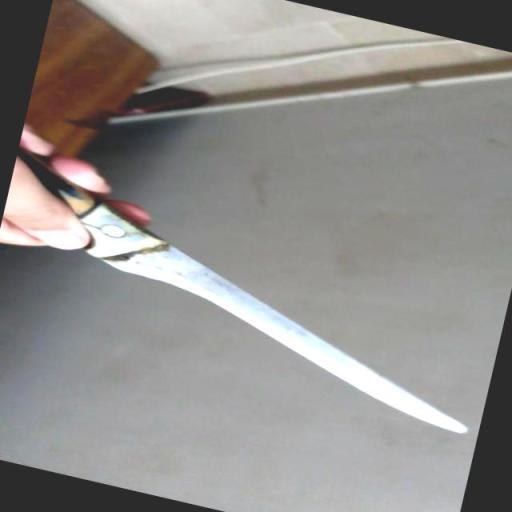knife: (0, 126, 512, 439)
